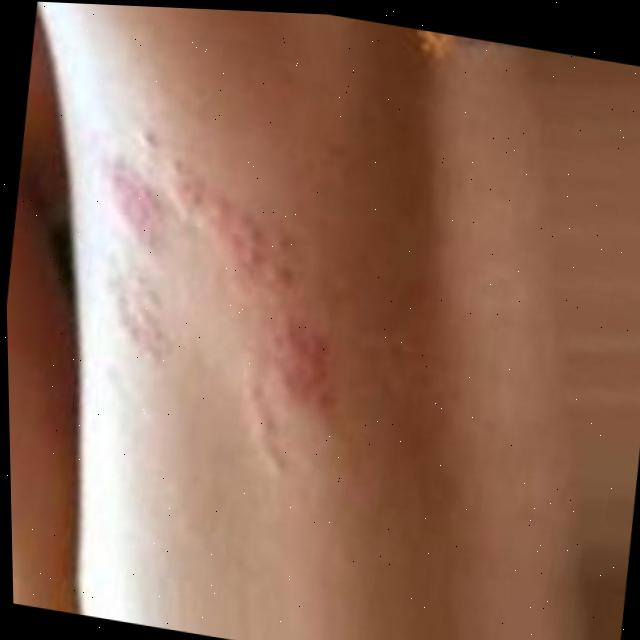Shingles: (69, 134, 369, 431)
